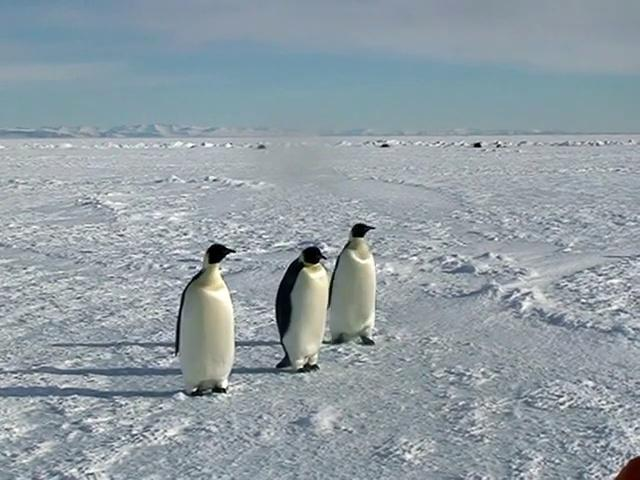animal: (332, 225, 377, 346)
